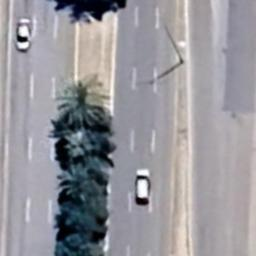SUV: (134, 168, 150, 200)
sedan: (16, 17, 31, 51)
